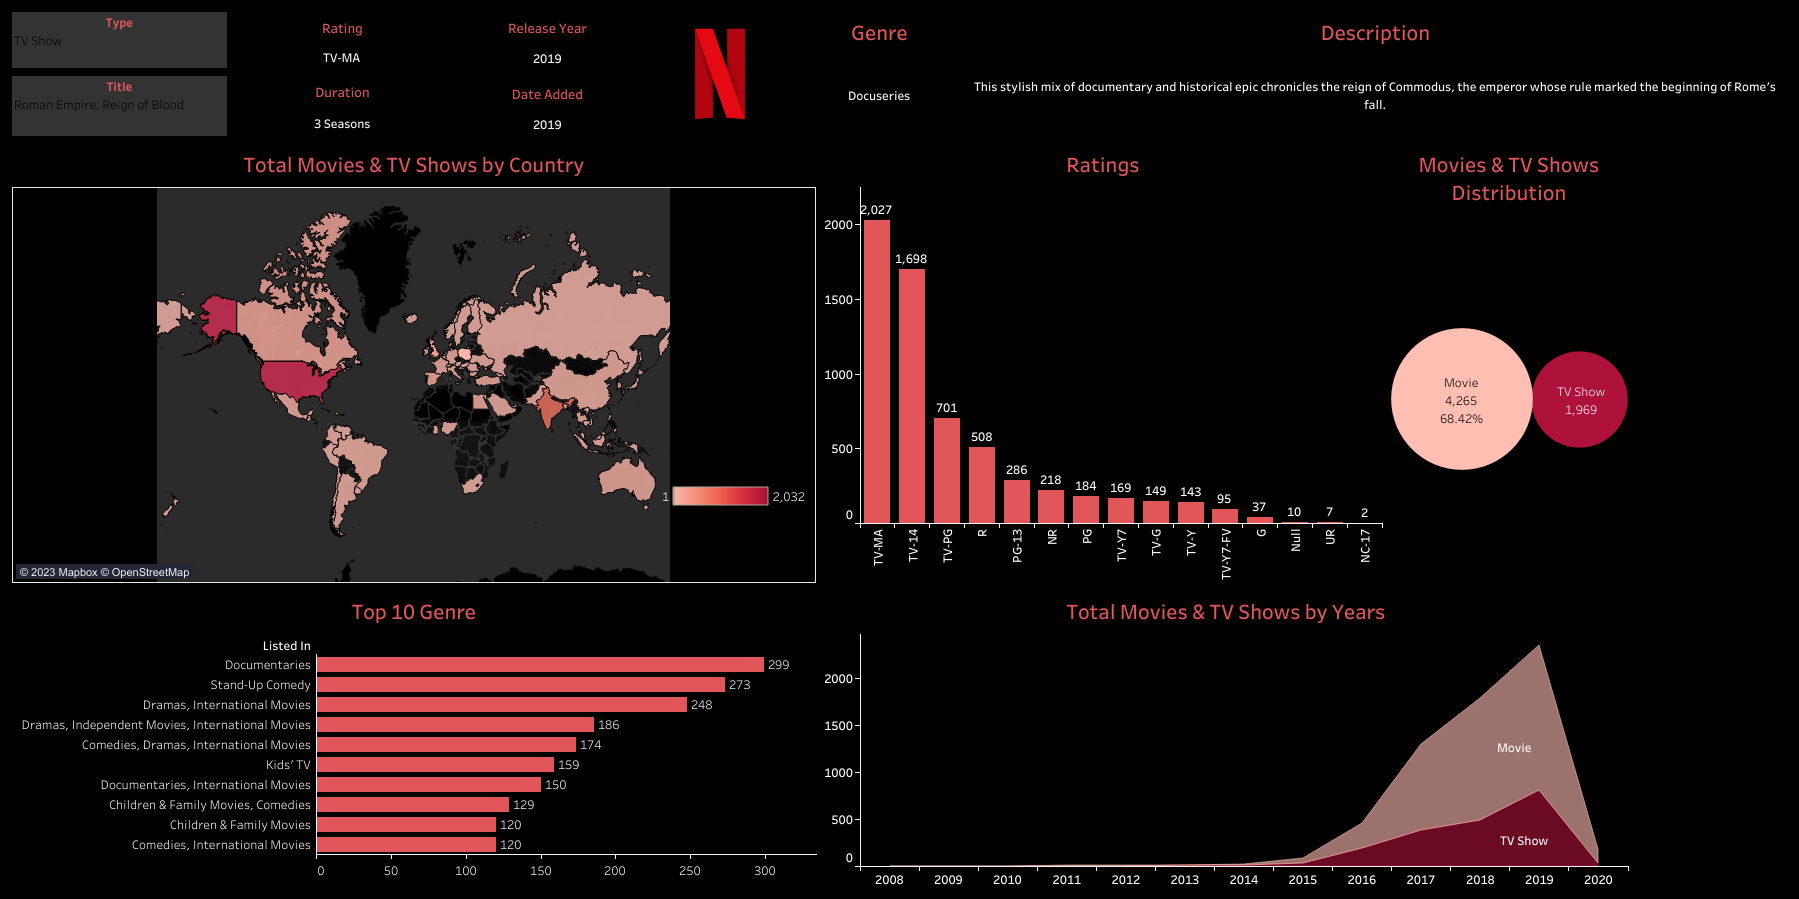

The page's visual inventory and layout, read from the dashboard file:
{"tool":"tableau","page":{"name":"Netflix","canvas":[1800,900],"ordinal":0},"visuals":[{"type":"filter","title":"Description","param":"[federated.1bygzqk12yhlk61dc4mkg1wq5i23].[none:type:nk]","box":[8,8,223,64]},{"type":"worksheet","title":"Rating","mark":"Automatic","box":[231,8,223,64]},{"type":"worksheet","title":"Release Year","mark":"Automatic","box":[454,8,187,66]},{"type":"image","param":"Image/Netflix-Symbol.png","box":[641,8,159,132]},{"type":"worksheet","title":"Genre","mark":"Automatic","box":[800,8,159,132]},{"type":"worksheet","title":"Description","mark":"Automatic","box":[959,8,833,132]},{"type":"filter","title":"Description","param":"[federated.1bygzqk12yhlk61dc4mkg1wq5i23].[none:title:nk]","box":[8,72,223,68]},{"type":"worksheet","title":"Duration","mark":"Automatic","box":[231,72,223,68]},{"type":"worksheet","title":"Date Added","mark":"Automatic","box":[454,74,187,66]},{"type":"worksheet","title":"Total Movies & TV Shows by Country","mark":"Multipolygon","box":[8,140,812,446.6]},{"type":"worksheet","title":"Ratings","mark":"Automatic","rows":["show_id"],"cols":["rating"],"box":[820,140,566,446.6]},{"type":"worksheet","title":"Movies & TV Shows Distribution","mark":"Circle","box":[1386,140,246,446.6]},{"type":"legend","title":"Movies & TV Shows Distribution","param":"[federated.1bygzqk12yhlk61dc4mkg1wq5i23].[ctd:show_id:qk]","box":[1632,140,160,22]},{"type":"legend","title":"Total Movies & TV Shows by Country","param":"[federated.1bygzqk12yhlk61dc4mkg1wq5i23].[ctd:show_id:qk]","box":[658,483,152,47]},{"type":"worksheet","title":"Top 10 Genre","mark":"Automatic","rows":["listed_in"],"cols":["show_id"],"box":[8,586.6,812,305.4]},{"type":"worksheet","title":"Total Movies & TV Shows by Years","mark":"Area","rows":["show_id"],"cols":["date_added"],"box":[820,586.6,812,305.4]}]}

Visuals, with their boxes in screenshot pixels (x1, y1, x2, y2), scaled from the page's 1800x900 canvas onto the 1799x899 screenshot:
"Description" filter: Rect(8, 8, 231, 72)
"Rating" worksheet: Rect(231, 8, 454, 72)
"Release Year" worksheet: Rect(454, 8, 641, 74)
image: Rect(641, 8, 800, 140)
"Genre" worksheet: Rect(800, 8, 958, 140)
"Description" worksheet: Rect(958, 8, 1791, 140)
"Description" filter: Rect(8, 72, 231, 140)
"Duration" worksheet: Rect(231, 72, 454, 140)
"Date Added" worksheet: Rect(454, 74, 641, 140)
"Total Movies & TV Shows by Country" worksheet (Multipolygon marks): Rect(8, 140, 820, 586)
"Ratings" worksheet: Rect(820, 140, 1385, 586)
"Movies & TV Shows Distribution" worksheet (Circle marks): Rect(1385, 140, 1631, 586)
"Movies & TV Shows Distribution" legend: Rect(1631, 140, 1791, 162)
"Total Movies & TV Shows by Country" legend: Rect(658, 482, 810, 529)
"Top 10 Genre" worksheet: Rect(8, 586, 820, 891)
"Total Movies & TV Shows by Years" worksheet (Area marks): Rect(820, 586, 1631, 891)
